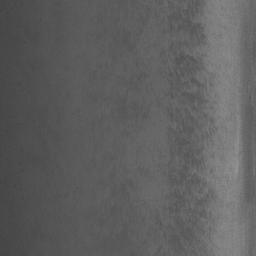Silk spot: (93, 0, 224, 256)
